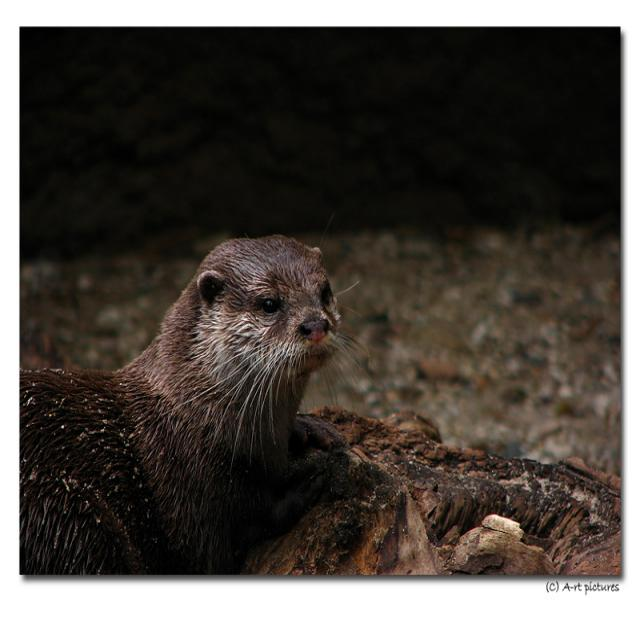otter: (1, 234, 366, 629)
